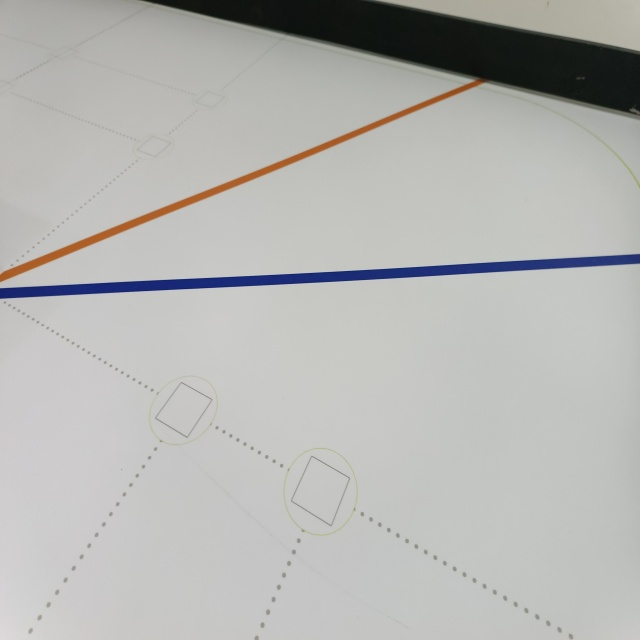blue line: (3, 246, 640, 309)
orange line: (0, 70, 489, 291)
